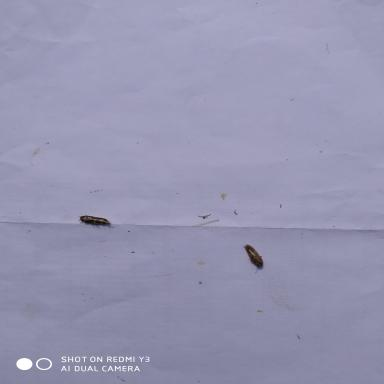pbw: (237, 243, 268, 276), (75, 212, 118, 232)
